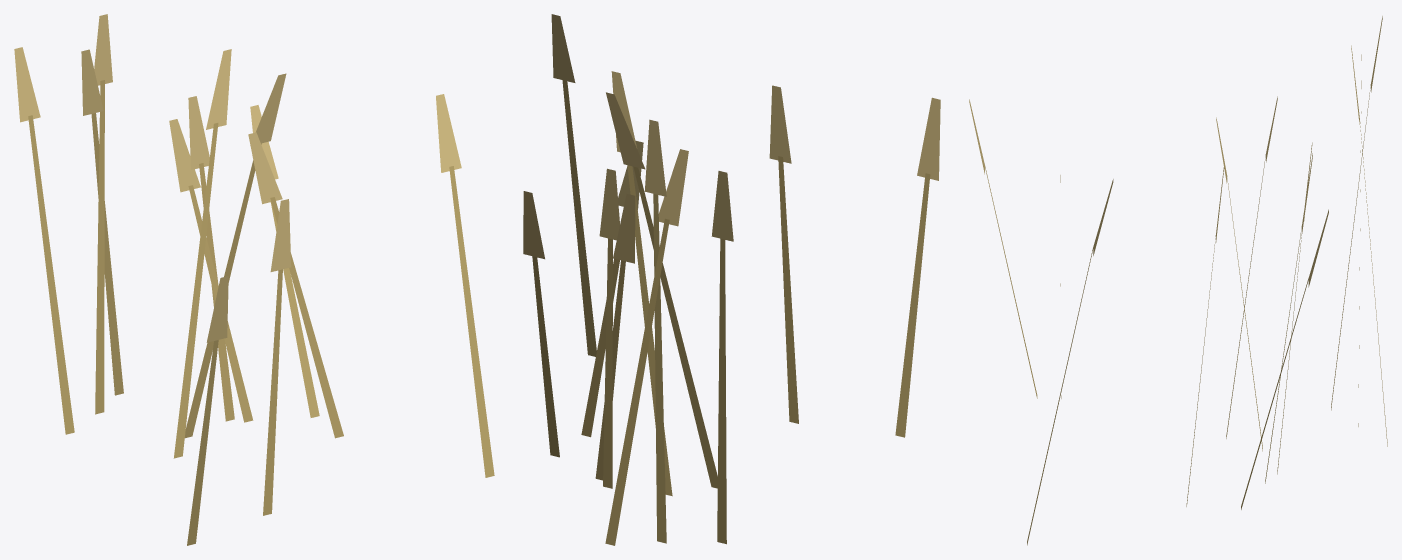
The model's file is wheat.glb.
3 views of the same model, side by side, from view 1: azimuth 30°, elevation 25°; view 2: azimuth 150°, elevation 25°; view 3: azimuth 270°, elevation 25° (orthographic). The views are drawn at different scales.
Parts seen in each view (by area): view 1: wheat; view 2: wheat; view 3: wheat.
Part boxes in pixels (left/top/right/bottom): wheat: left=14, top=14, right=494, bottom=545; wheat: left=523, top=14, right=940, bottom=545; wheat: left=969, top=16, right=1387, bottom=545.
Bounding box in the file's own units: 1.5 × 1.83 × 1.73.
